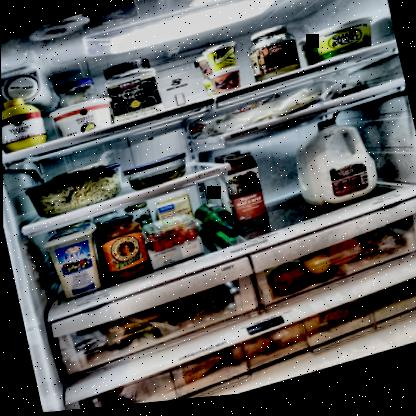apple: (267, 264, 309, 302), (300, 254, 332, 283)
milk: (222, 153, 267, 234)
mineral_water: (193, 199, 238, 247)
tomato: (183, 232, 199, 245), (151, 244, 163, 255), (172, 238, 184, 248), (162, 243, 174, 251)
